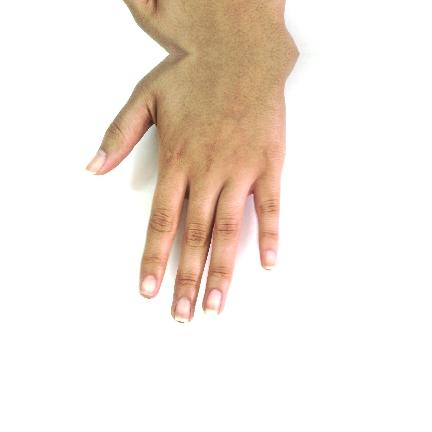Nail: (85, 150, 107, 175), (204, 289, 222, 316), (174, 297, 191, 323), (140, 275, 156, 296), (265, 251, 277, 270)
